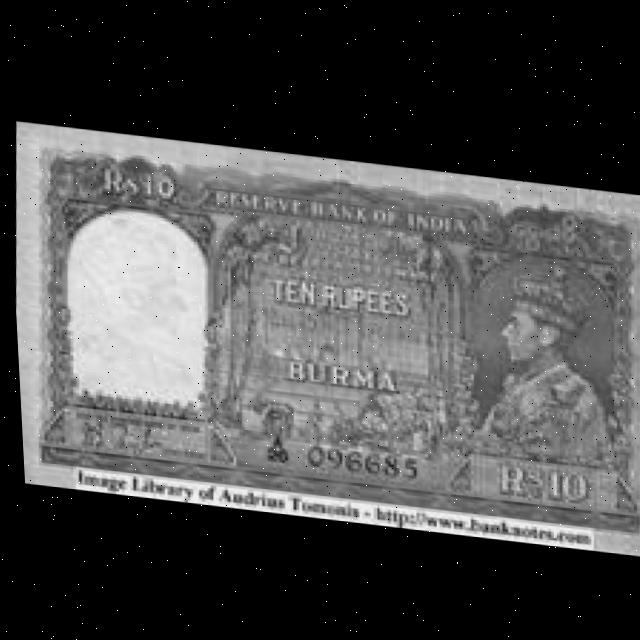banknote: (5, 120, 640, 547)
